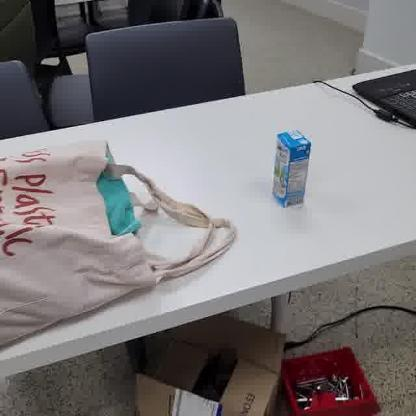Others: (268, 124, 316, 216)
